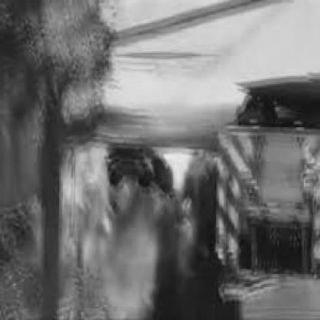Fire: (100, 136, 232, 289)
